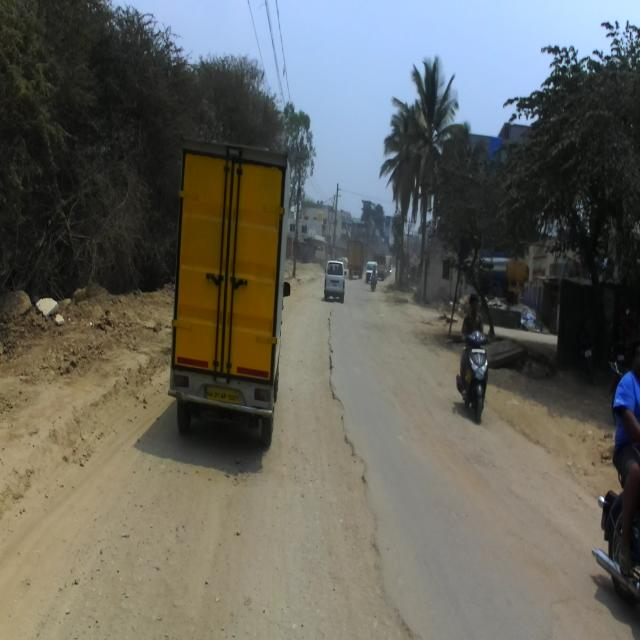motorcycle ahead at: (457, 327, 495, 423)
truck ahead at: (171, 125, 290, 452)
